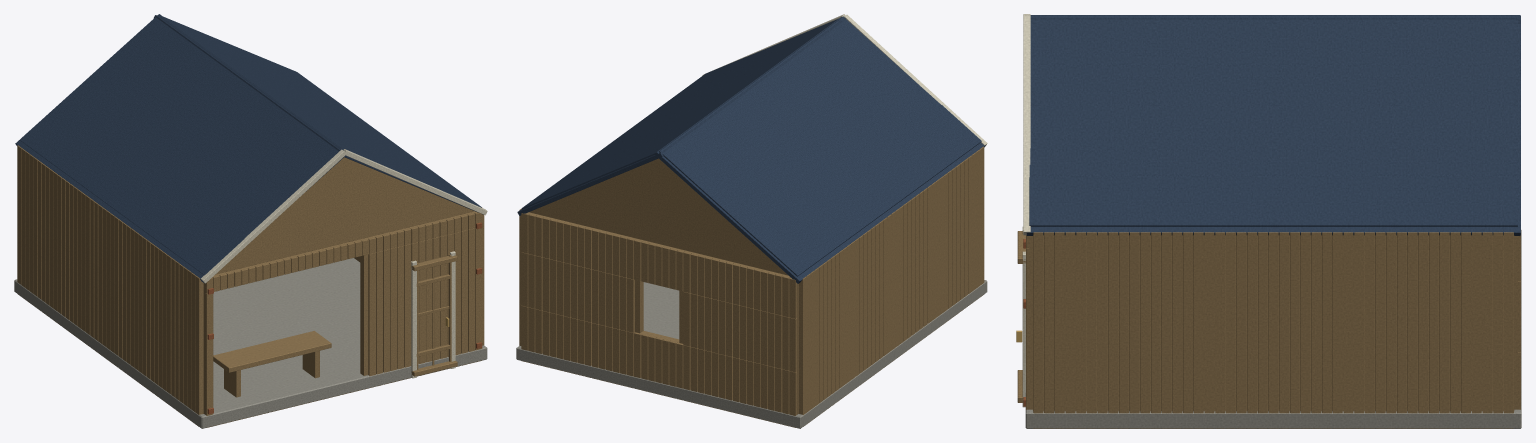
Rendered from CARWASH2_lod0.glb.
The picture shows the model from 3 angles, left to right: view 1: azimuth 30°, elevation 25°; view 2: azimuth 150°, elevation 25°; view 3: azimuth 270°, elevation 25°; orthographic projection. The views are drawn at different scales.
Visible parts, largest first — view 1: CARWASH2_LOD0; view 2: CARWASH2_LOD0; view 3: CARWASH2_LOD0.
Part boxes in pixels (bbox=[...]): CARWASH2_LOD0: bbox=[14, 14, 487, 428]; CARWASH2_LOD0: bbox=[516, 14, 987, 428]; CARWASH2_LOD0: bbox=[1016, 14, 1521, 428].
Size of the model in its own units: 7.25 by 5.91 by 8.41.
Materials: 10 (7 with a texture image).
